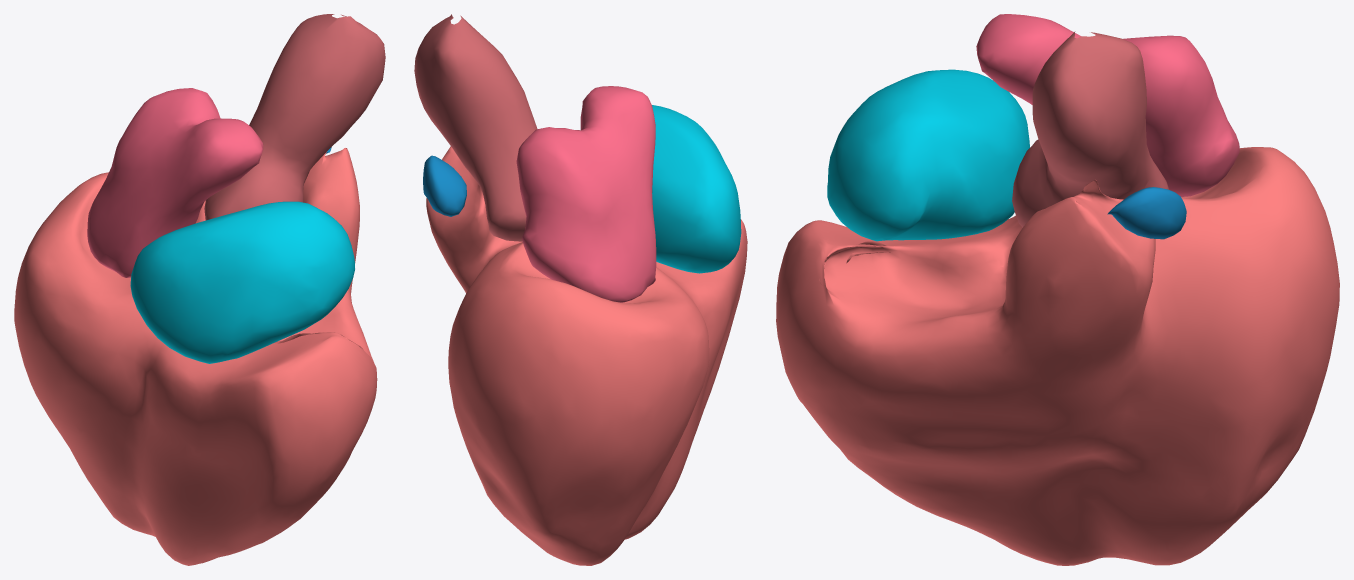
The model's file is frame_56.glb.
3 renders of one model, left to right at view 1: azimuth 30°, elevation 25°; view 2: azimuth 150°, elevation 25°; view 3: azimuth 270°, elevation 25°, orthographic. The views are drawn at different scales.
Visible parts, largest first — view 1: Renderer Node; view 2: Renderer Node; view 3: Renderer Node.
Boxes of the visible parts, <box> form: Renderer Node: <box>14,14,385,565</box>; Renderer Node: <box>414,14,747,565</box>; Renderer Node: <box>776,14,1339,565</box>.
Bounding box in the file's own units: 103 × 157 × 127.
